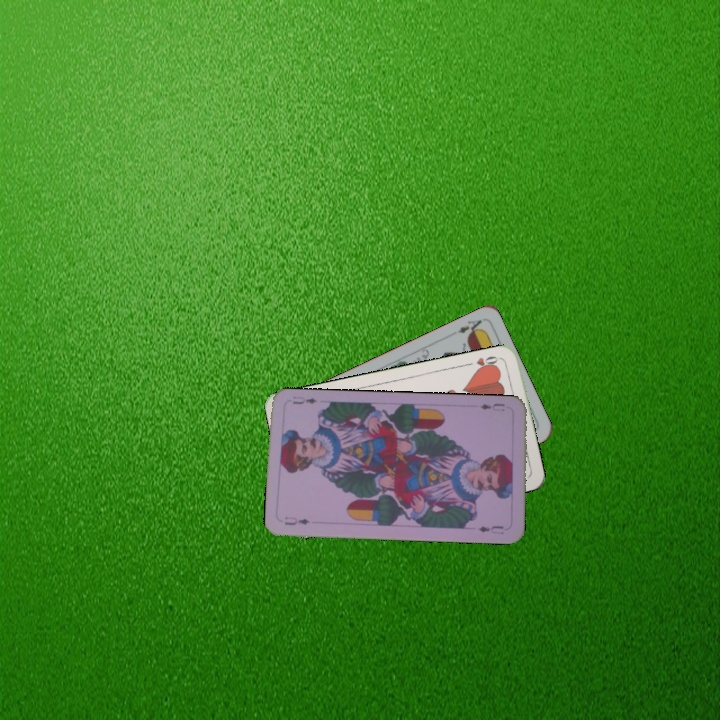EA: (447, 315, 485, 339)
EU: (281, 512, 312, 528), (476, 399, 507, 414)
HO: (463, 352, 503, 374)
